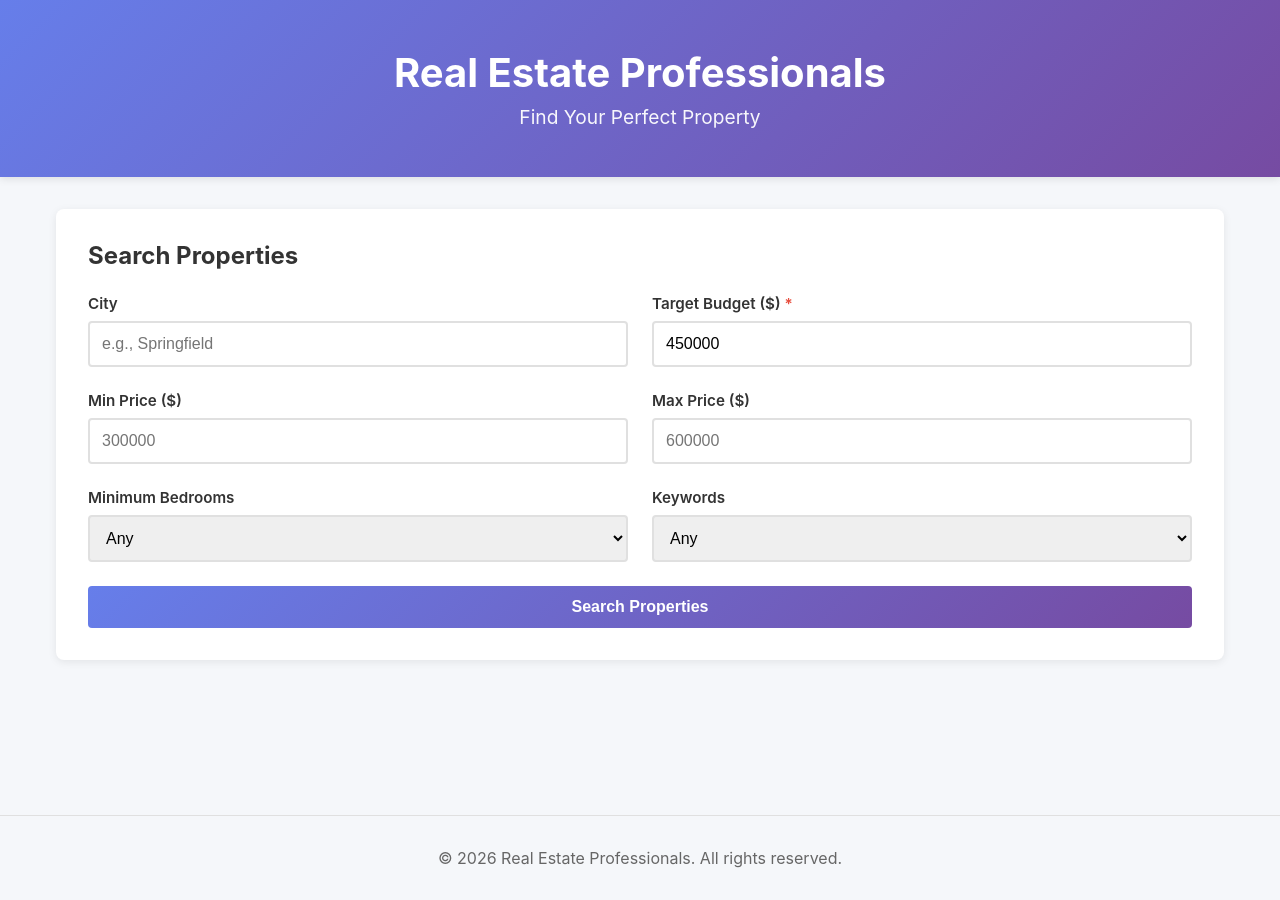
App results pagination › shows 3 results per page by default
The width and height of the screenshot is (1280, 900).
Click the button "Search Properties": (640, 607) top-left (88, 586), bottom-right (1192, 628)
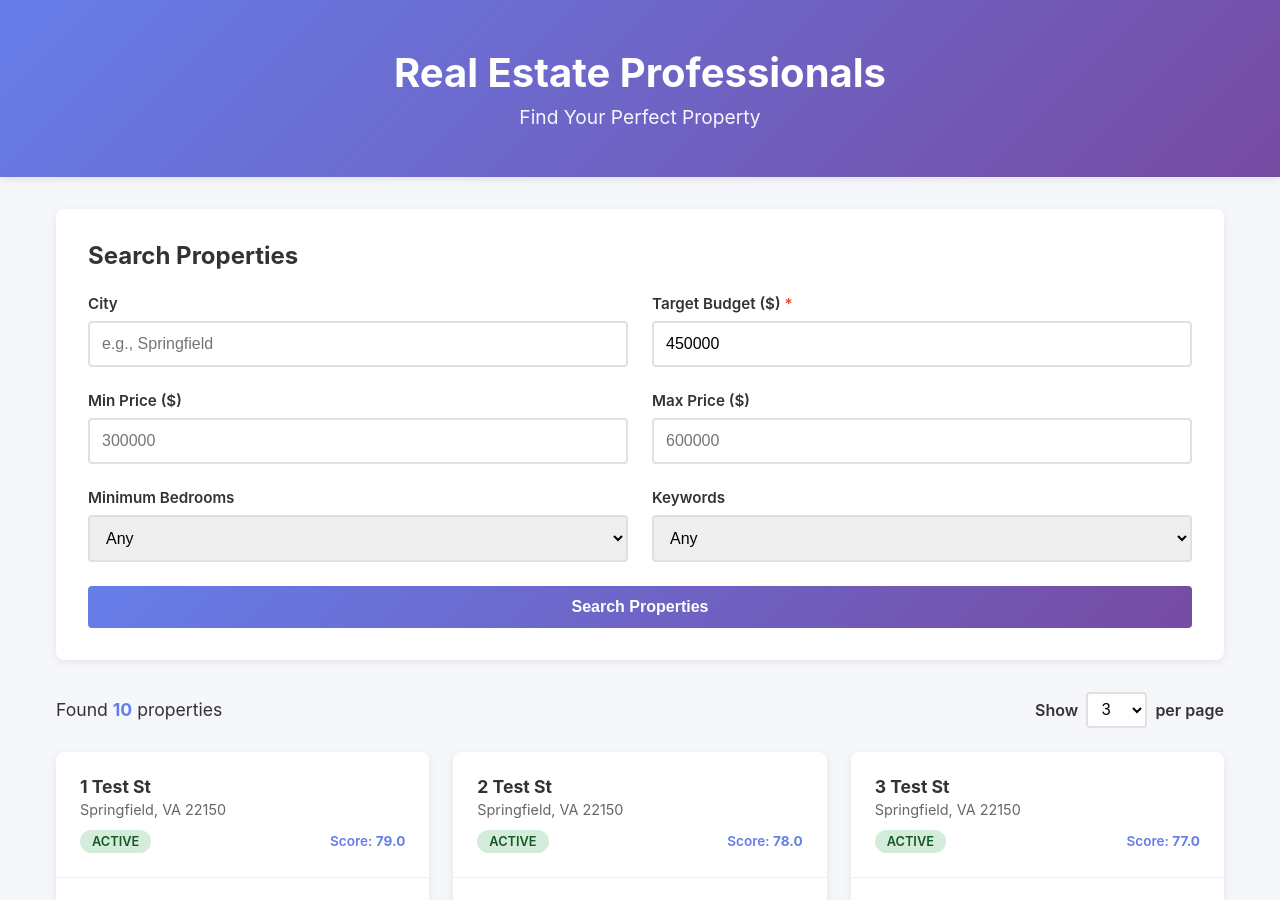
Expected: the dropdown labelled "Show per page" shows "3", top-left (1086, 692), bottom-right (1147, 728)
